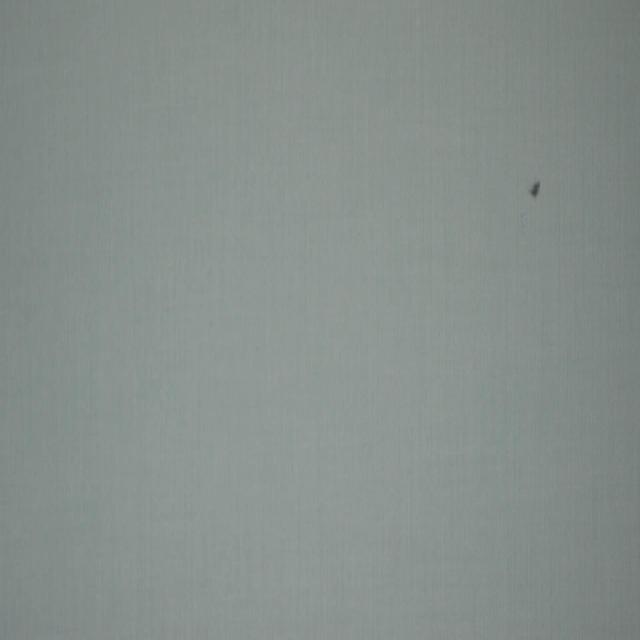dirty: (528, 180, 540, 197)
